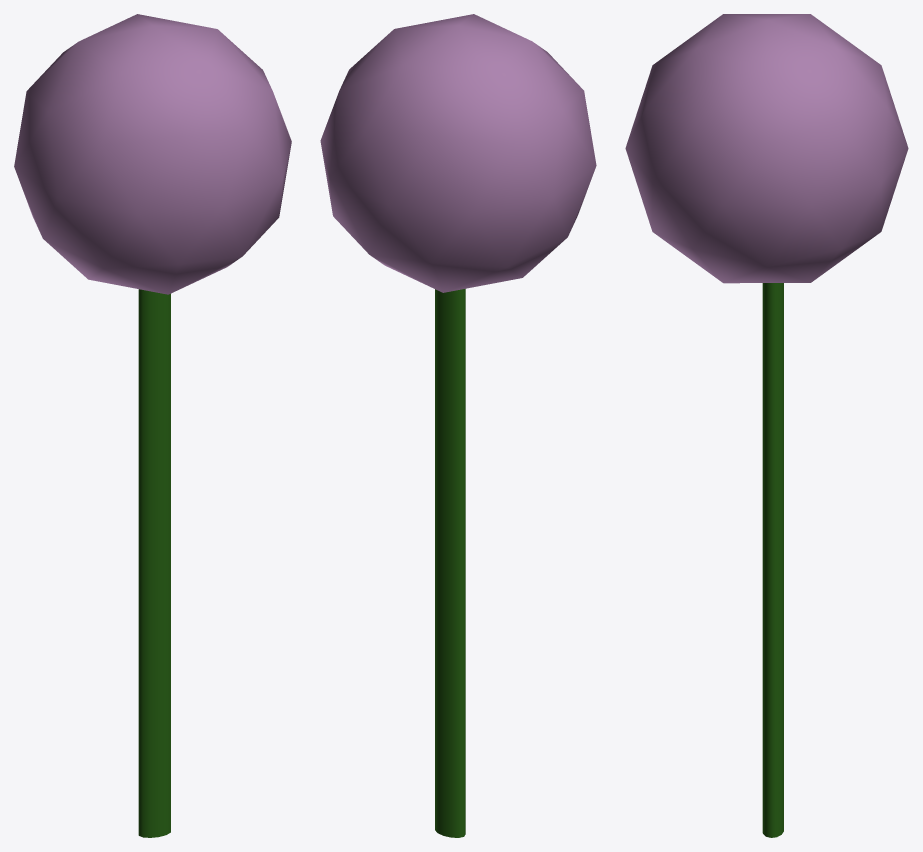
3 views of the same model, side by side, from view 1: azimuth 30°, elevation 25°; view 2: azimuth 150°, elevation 25°; view 3: azimuth 270°, elevation 25° (orthographic).
Visible parts, largest first — view 1: f21; view 2: f21; view 3: f21.
Boxes of the visible parts, x1,y1,x2,y2 form: f21: (14, 14, 291, 837); f21: (320, 14, 596, 837); f21: (625, 14, 908, 837).
Bounding box in the file's own units: 0.4994 × 1.65 × 0.525.
